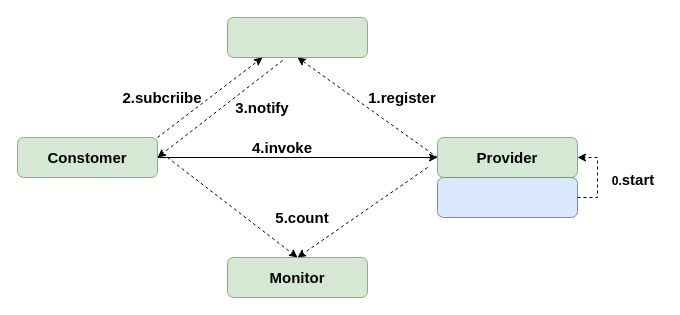
Image size: 680x315. Some labels were removed from this diagram. Each missing label, with the centre of its shape:
Container: the point at 507,197
Registry: the point at 297,37
